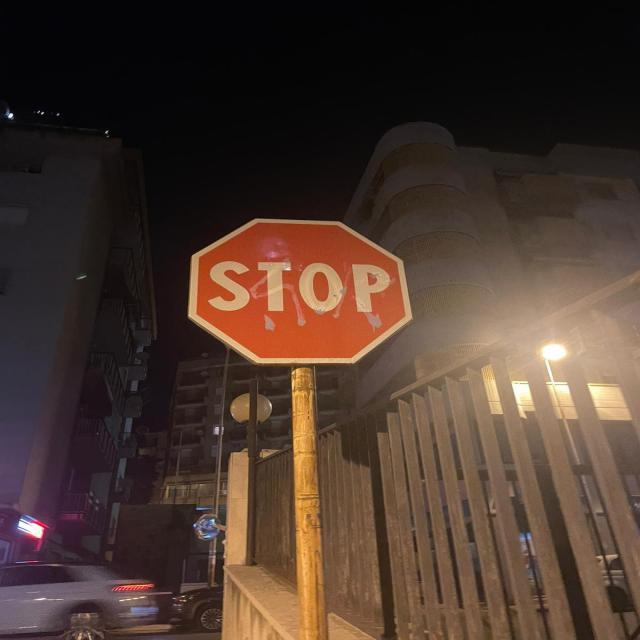prio_stop: (186, 215, 418, 364)
